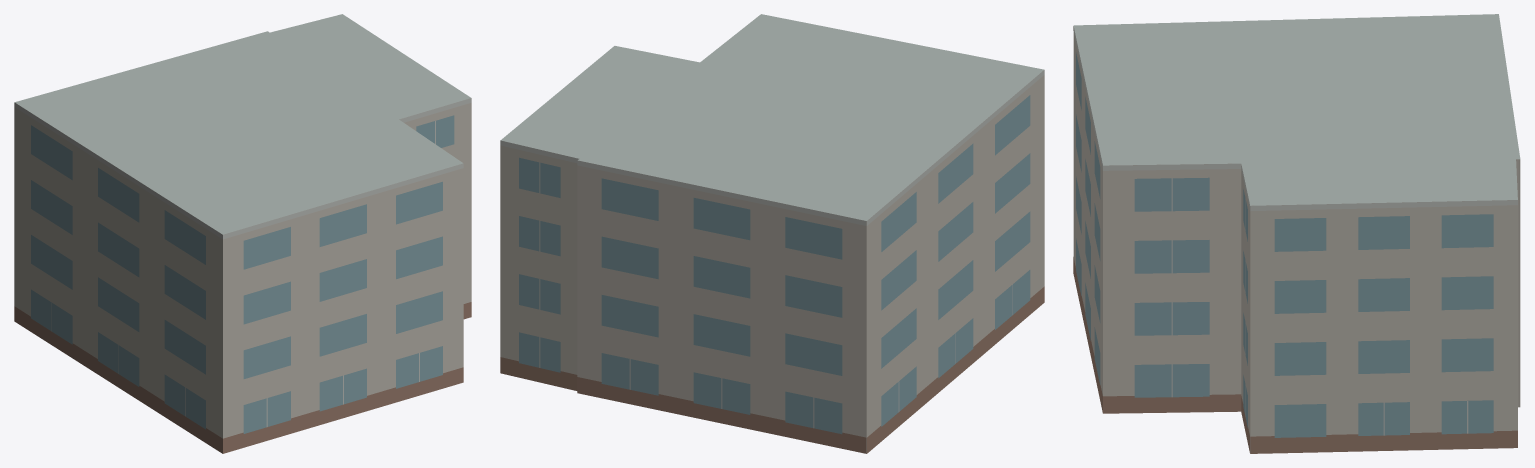
The model's file is survey-upis-32937642.glb.
3 renders of one model, left to right at view 1: azimuth 30°, elevation 25°; view 2: azimuth 150°, elevation 25°; view 3: azimuth 270°, elevation 25°, orthographic. The views are drawn at different scales.
Visible parts, largest first — view 1: survey-upis-32937642.tmp; view 2: survey-upis-32937642.tmp; view 3: survey-upis-32937642.tmp.
Part boxes in pixels (x1,y1,x2,y2): survey-upis-32937642.tmp: (14, 14, 471, 453); survey-upis-32937642.tmp: (500, 14, 1044, 453); survey-upis-32937642.tmp: (1073, 14, 1520, 453).
Bounding box in the file's own units: 18.75 × 11.3 × 18.46.
